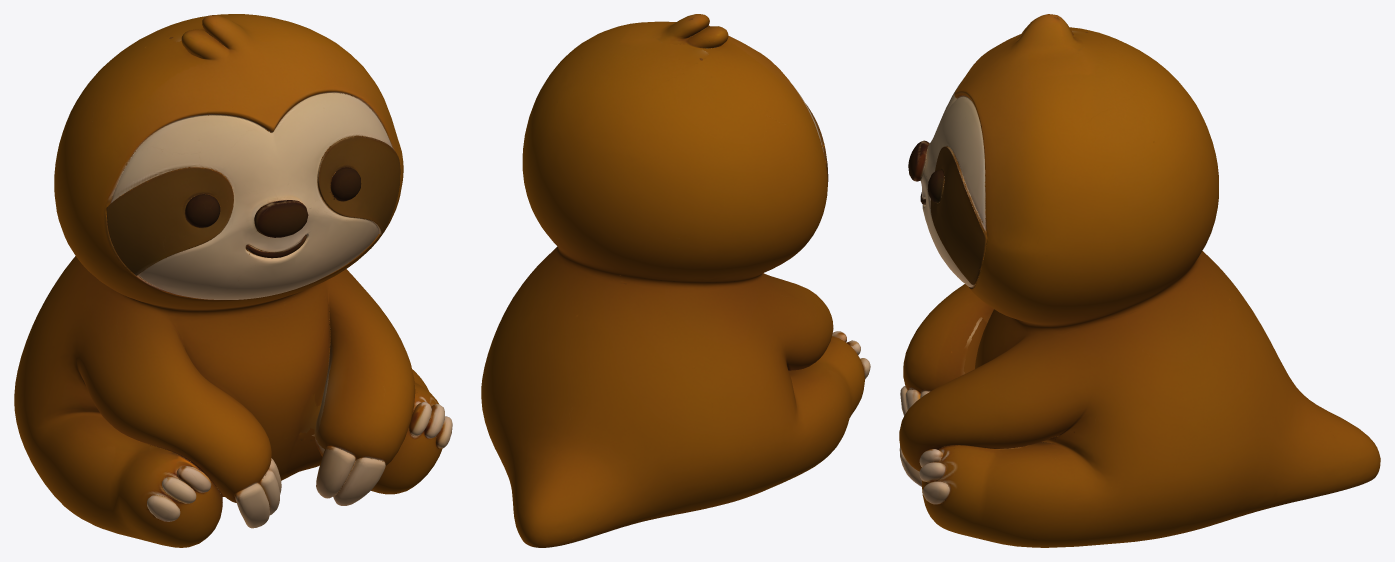
Rendered from getingo-sloth.glb.
3 views of the same model, side by side, from view 1: azimuth 30°, elevation 25°; view 2: azimuth 150°, elevation 25°; view 3: azimuth 270°, elevation 25° (orthographic). The views are drawn at different scales.
Parts seen in each view (by area): view 1: texture_pbr_v128; view 2: texture_pbr_v128; view 3: texture_pbr_v128.
Part boxes in pixels (x1,y1,x2,y2): texture_pbr_v128: (14, 14, 452, 547); texture_pbr_v128: (481, 14, 870, 547); texture_pbr_v128: (899, 14, 1380, 547).
Bounding box in the file's own units: 0.681 × 0.8714 × 0.8399.
1 material, 1 textured.
